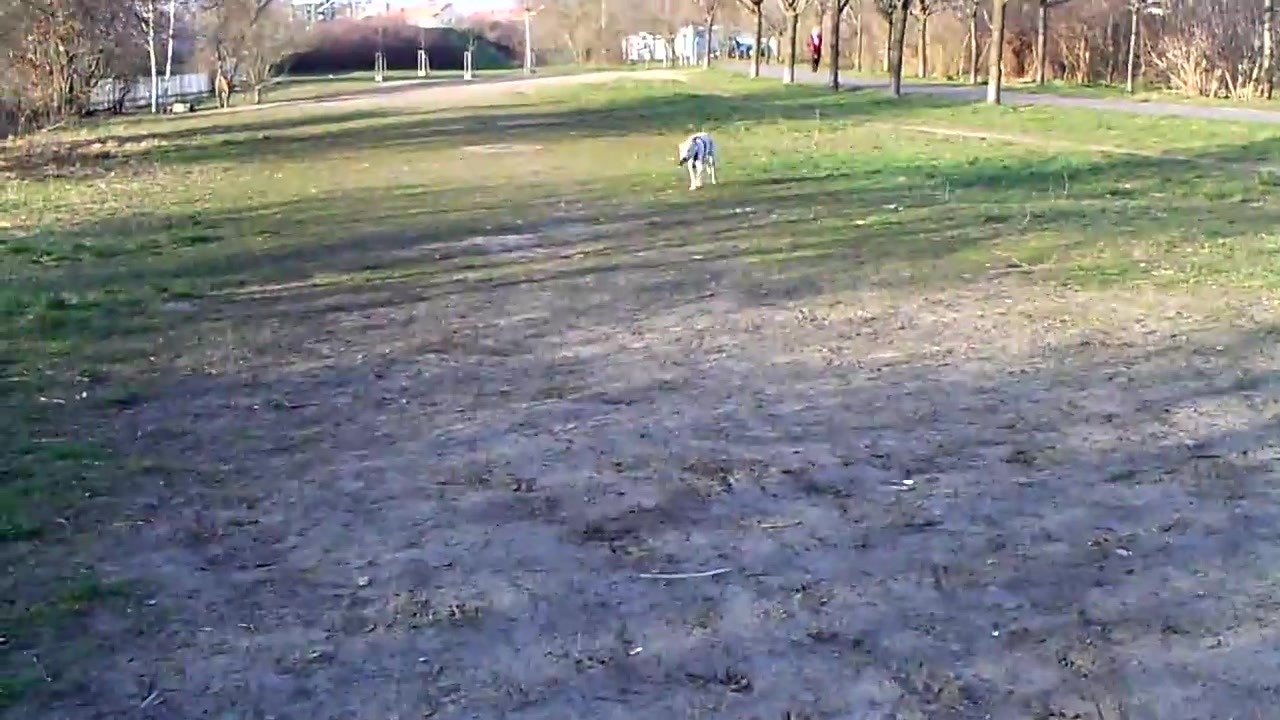dog: (674, 129, 721, 190)
